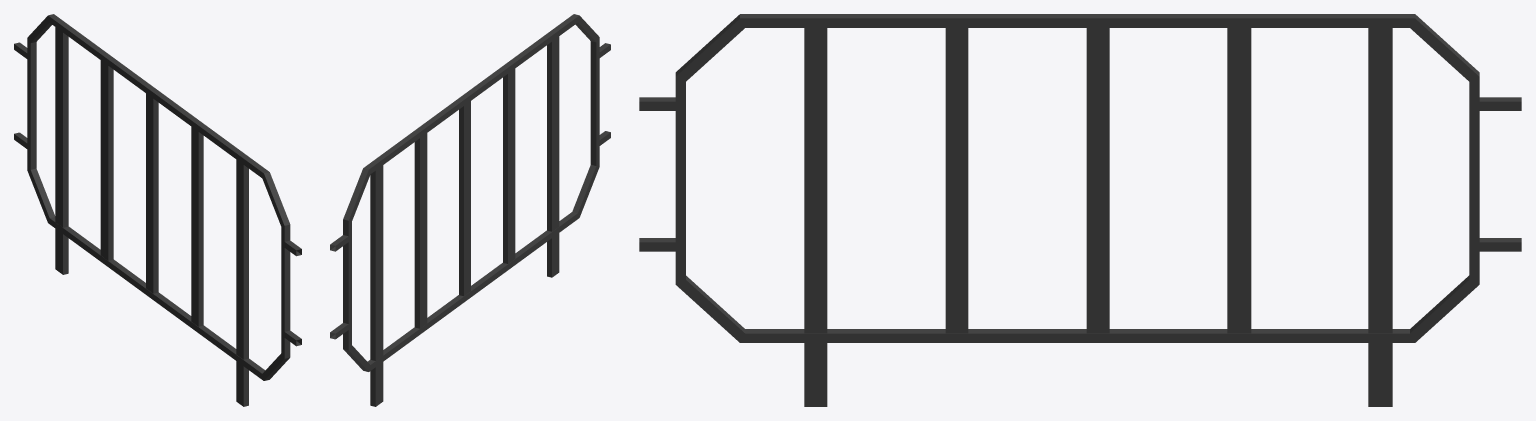
The model's file is Fence01.fbx.
3 views of the same model, side by side, from view 1: azimuth 30°, elevation 25°; view 2: azimuth 150°, elevation 25°; view 3: azimuth 270°, elevation 25° (orthographic). The views are drawn at different scales.
Visible parts, largest first — view 1: Fence01; view 2: Fence01; view 3: Fence01.
Part boxes in pixels (x1,y1,x2,y2): Fence01: [14, 14, 301, 406]; Fence01: [330, 14, 610, 406]; Fence01: [639, 14, 1521, 406].
Size of the model in its own units: 3 by 122 by 250.
